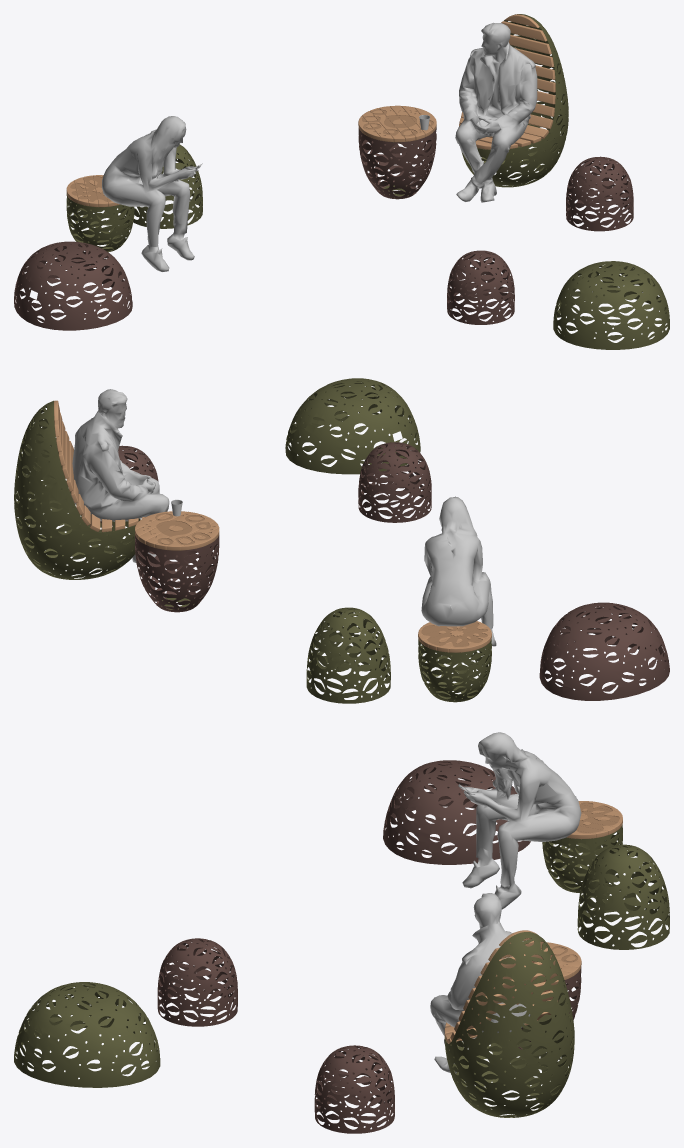
3 views of the same model, one above another, from view 1: azimuth 30°, elevation 25°; view 2: azimuth 150°, elevation 25°; view 3: azimuth 270°, elevation 25° (orthographic). The views are drawn at different scales.
Parts seen in each view (by area): view 1: male sit, half_pod_C001, half_pod_C002, seated_girl2, Circle007, half_pod_top002, half_pod_top003, half_pod002, chair_slat011, half_pod01, Top03, half_pod005 (+1 smaller); view 2: Circle007, half_pod_C001, half_pod_C002, male sit, seated_girl2, half_pod005, half_pod_top003, half_pod002, half_pod01, Top03, chair_slat011, Top02 (+1 smaller); view 3: Circle007, half_pod_C002, seated_girl2, half_pod_C001, half_pod005, half_pod_top003, half_pod_top002, male sit, half_pod01, chair_slat011, Top02, Top03.
Part boxes in pixels (x1,y1,x2,y2): male sit: [455, 22, 537, 202]; half_pod_C001: [14, 241, 132, 330]; half_pod_C002: [553, 261, 669, 349]; seated_girl2: [102, 116, 202, 271]; Circle007: [461, 14, 568, 187]; half_pod_top002: [566, 156, 633, 231]; half_pod_top003: [447, 250, 514, 324]; half_pod002: [358, 127, 436, 199]; chair_slat011: [459, 14, 555, 149]; half_pod01: [66, 194, 134, 252]; Top03: [358, 105, 436, 142]; half_pod005: [125, 144, 202, 228]; Circle007: [14, 400, 140, 579]; half_pod_C001: [539, 602, 669, 700]; half_pod_C002: [285, 378, 420, 474]; male sit: [71, 389, 173, 562]; seated_girl2: [421, 496, 496, 646]; half_pod005: [306, 607, 390, 703]; half_pod_top003: [358, 442, 431, 522]; half_pod002: [135, 535, 219, 612]; half_pod01: [418, 639, 491, 702]; Top03: [135, 511, 219, 550]; chair_slat011: [54, 400, 145, 532]; Top02: [418, 621, 491, 652]; Circle007: [444, 932, 574, 1117]; half_pod_C002: [14, 982, 160, 1087]; seated_girl2: [458, 732, 581, 909]; half_pod_C001: [383, 760, 530, 864]; half_pod005: [577, 844, 669, 949]; half_pod_top003: [157, 938, 237, 1026]; half_pod_top002: [314, 1045, 394, 1133]; male sit: [430, 893, 530, 1073]; half_pod01: [542, 824, 622, 893]; chair_slat011: [444, 930, 558, 1043]; Top02: [566, 801, 622, 839]; Top03: [546, 942, 581, 979].
Size of the model in its own units: 4.79 by 1.32 by 4.05.
